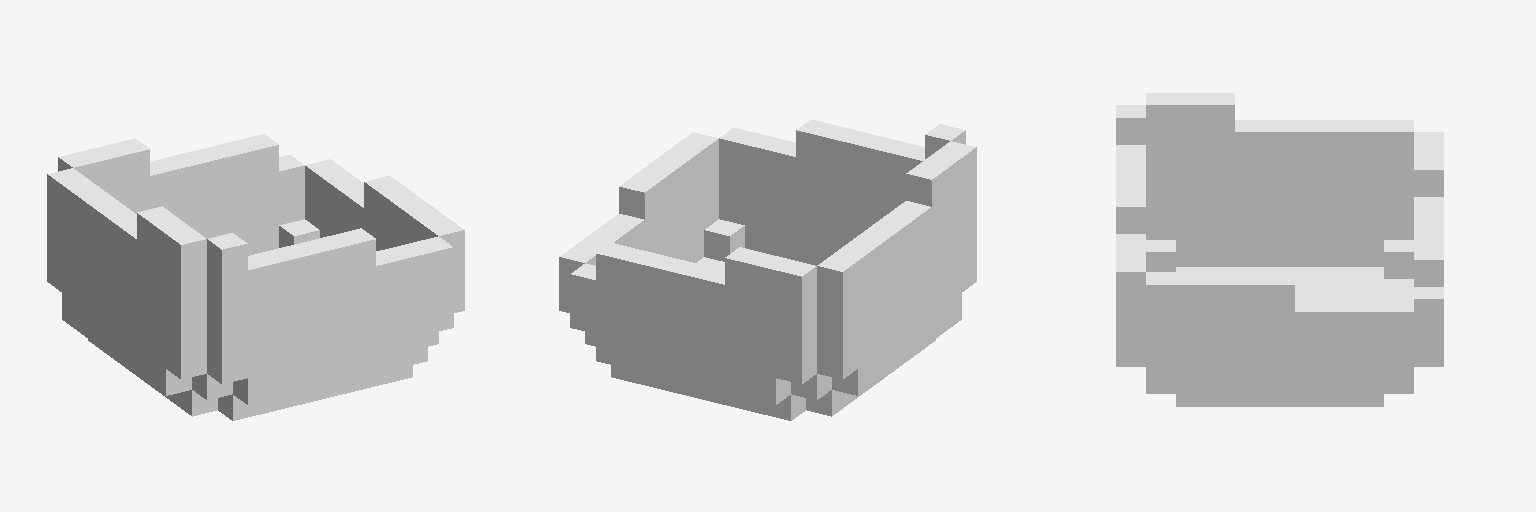
Rendered from egg_bottomhalf.obj.
The picture shows the model from 3 angles: view 1: azimuth 30°, elevation 25°; view 2: azimuth 150°, elevation 25°; view 3: azimuth 270°, elevation 25°; orthographic projection.
Visible parts, largest first — view 1: egg_tophalf; view 2: egg_tophalf; view 3: egg_tophalf.
Boxes of the visible parts, box(x1,y1,x2,y2) form: egg_tophalf: box(47, 134, 464, 420); egg_tophalf: box(559, 119, 976, 420); egg_tophalf: box(1116, 93, 1443, 406).
Bounding box in the file's own units: 1.1 × 0.7 × 1.1.